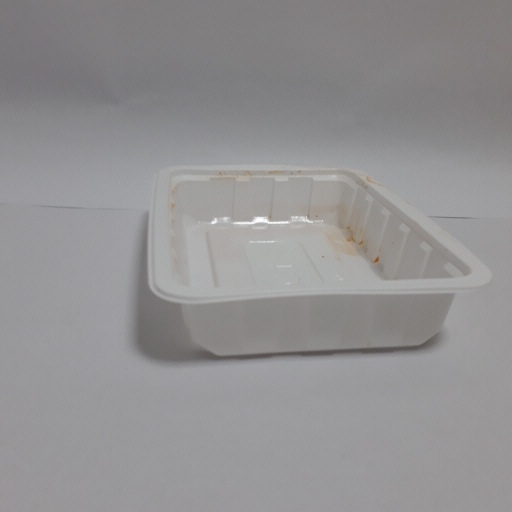Plastic_4: (145, 160, 492, 357)
